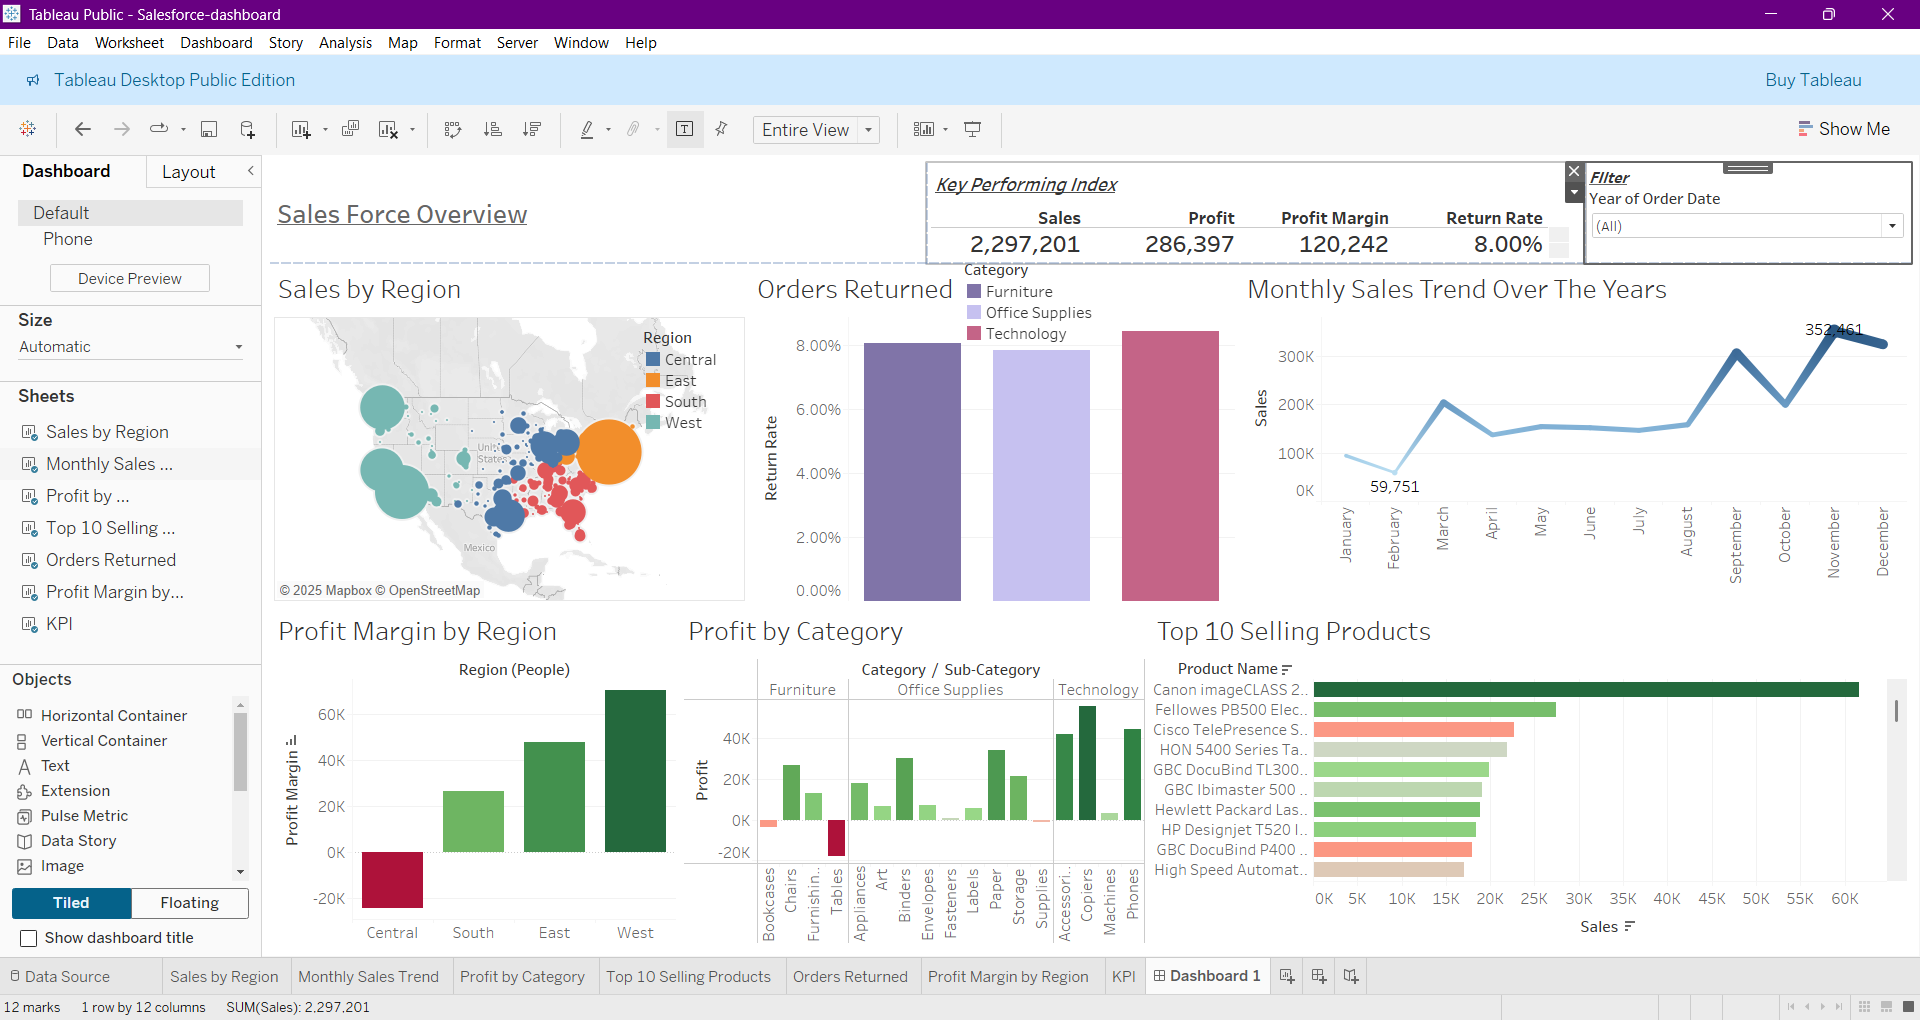

What the dashboard file says about the page in this screenshot:
{"tool":"tableau","page":{"name":"Dashboard 1","canvas":[1000,1000],"units":"permille","ordinal":0},"visuals":[{"type":"text","box":[4.9,10,396.7,124.8]},{"type":"worksheet","title":"KPI","mark":"Automatic","box":[401.5,10,396.7,124.8]},{"type":"filter","title":"Monthly Sales Trend","param":"[federated.0zm1cic0rf96av13ua7xs1m75goe].[yr:Order Date:ok]","box":[798.2,10,196.9,124.8]},{"type":"legend","title":"Orders Returned","param":"[federated.0zm1cic0rf96av13ua7xs1m75goe].[none:Category:nk]","box":[423.7,129.8,84.5,109.9]},{"type":"worksheet","title":"Sales by Region","mark":"Automatic","box":[4.9,134.8,288.9,427.6]},{"type":"worksheet","title":"Orders Returned","mark":"Automatic","rows":["Calculation_435723278381166593"],"cols":["Category"],"box":[293.8,134.8,295.7,427.6]},{"type":"worksheet","title":"Monthly Sales Trend","mark":"Automatic","rows":["Sales"],"cols":["Order Date"],"box":[589.4,134.8,405.7,427.6]},{"type":"legend","title":"Sales by Region","param":"[federated.0zm1cic0rf96av13ua7xs1m75goe].[none:Region (People):nk]","box":[229.9,214.7,59.1,132.3]},{"type":"worksheet","title":"Profit Margin by Region","mark":"Automatic","rows":["Calculation_435723278378086400"],"cols":["Region (People)"],"box":[4.9,562.4,247.4,427.6]},{"type":"worksheet","title":"Profit by Category","mark":"Automatic","rows":["Profit"],"cols":["Category","Sub-Category"],"box":[252.3,562.4,282.8,427.6]},{"type":"worksheet","title":"Top 10 Selling Products","mark":"Automatic","rows":["Product Name"],"cols":["Sales"],"box":[535.1,562.4,460,427.6]}]}

Visuals, with their boxes on the dashboard's canvas, which has no fixed pixel size, in thousandths of its width and height (x1, y1, x2, y2). These are canvas units, not pixel positions in the 1920x1020 screenshot, which may show the page scaled, cropped or inside an application window:
text: select_region(5, 10, 402, 135)
"KPI" worksheet: select_region(402, 10, 798, 135)
"Monthly Sales Trend" filter: select_region(798, 10, 995, 135)
"Orders Returned" legend: select_region(424, 130, 508, 240)
"Sales by Region" worksheet: select_region(5, 135, 294, 562)
"Orders Returned" worksheet: select_region(294, 135, 590, 562)
"Monthly Sales Trend" worksheet: select_region(589, 135, 995, 562)
"Sales by Region" legend: select_region(230, 215, 289, 347)
"Profit Margin by Region" worksheet: select_region(5, 562, 252, 990)
"Profit by Category" worksheet: select_region(252, 562, 535, 990)
"Top 10 Selling Products" worksheet: select_region(535, 562, 995, 990)
